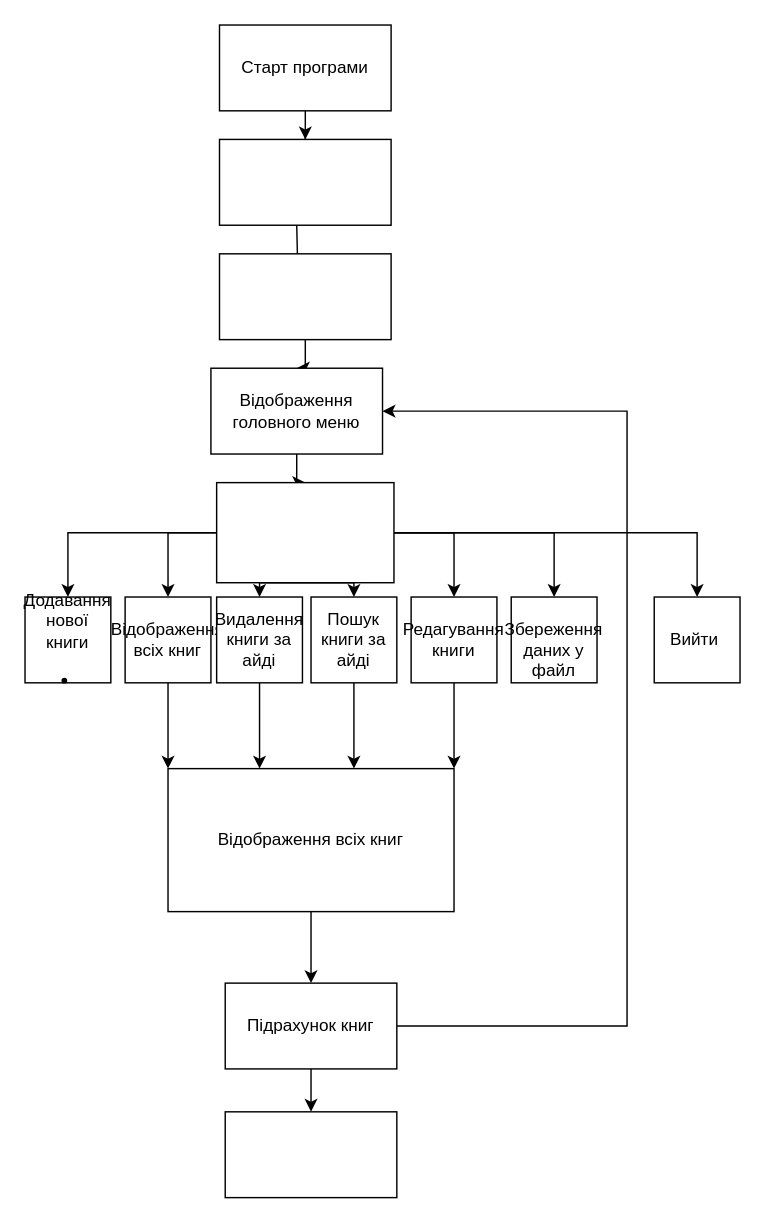
Image size: 765x1223. Some labels were removed from this diagram. The shapes that lost their labels are listed below. From the top down, each one's box as (x1, y1, x2, y2) in pixels, then its label:
(218, 138, 391, 225): Ініціалізація дин. масиву
(218, 252, 391, 340): Завантаження даних із файлу
(215, 481, 394, 583): Обробка вибору користувача
(224, 1110, 397, 1198): Завершення роботи
